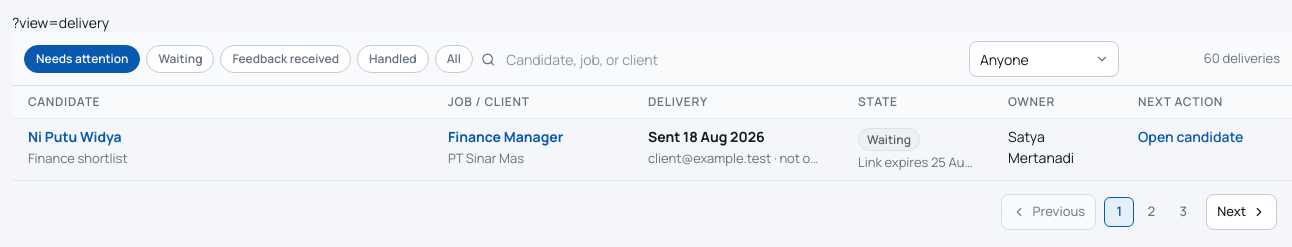
Test: DeliveryWorkbench › filters › pages on the server and keeps the page in the URL
Expected: the text "Ni Putu Widya" is shown, left=28, top=127, right=122, bottom=146
Click the button "Next": (1242, 212) left=1206, top=194, right=1277, bottom=230
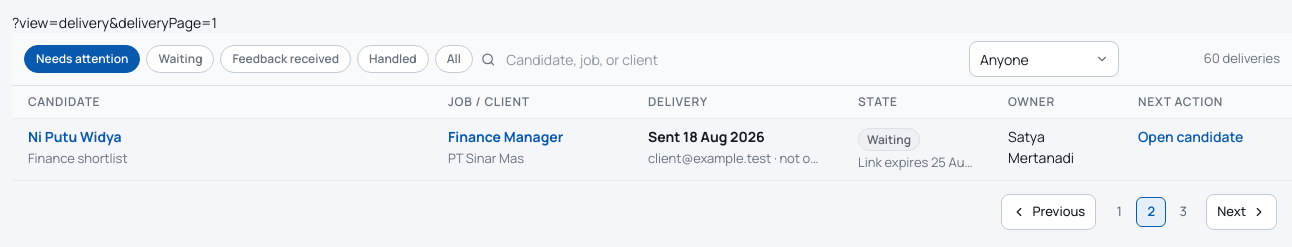
Result: the text with test id "search" shows "deliveryPage=1" at left=12, top=13, right=217, bottom=32
